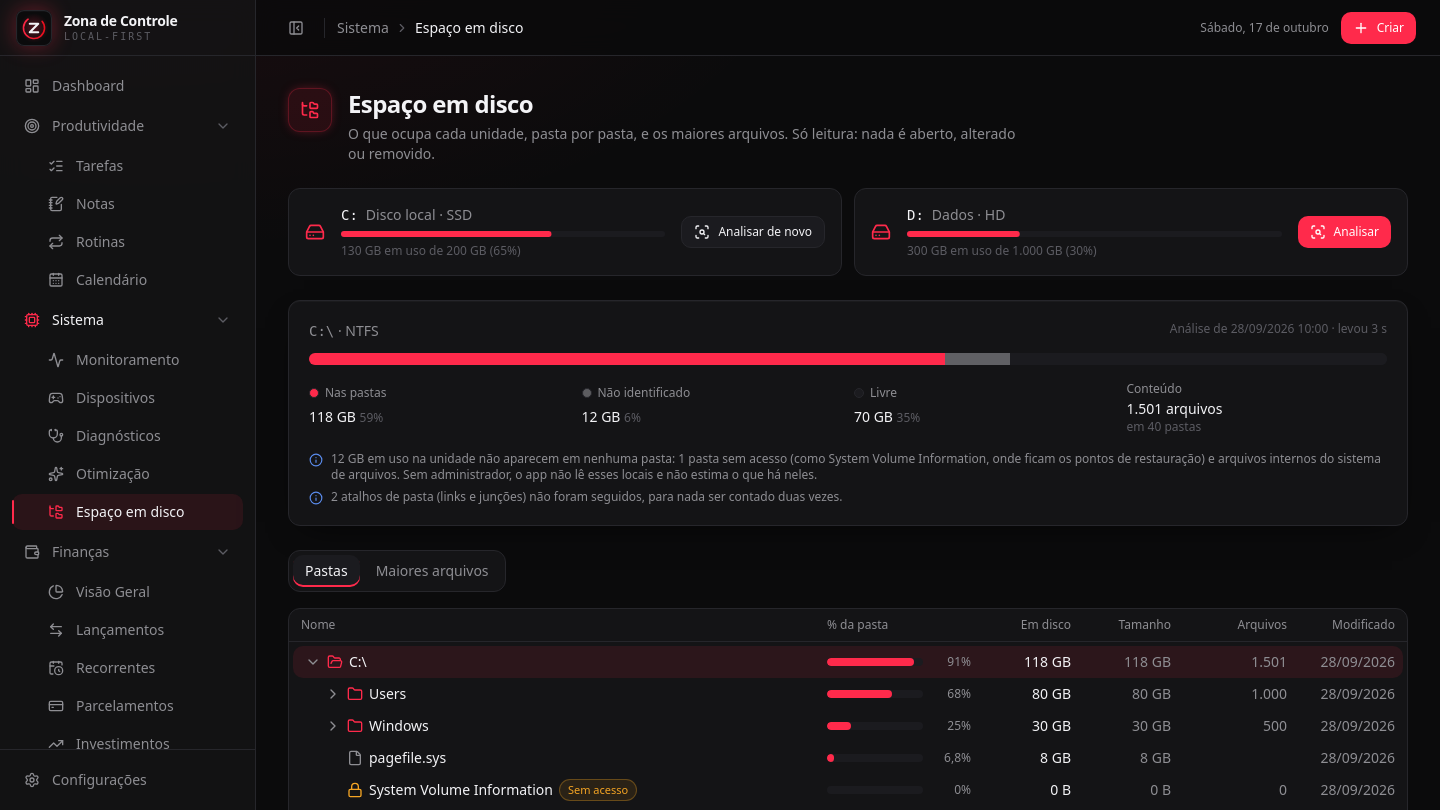
página Espaço em disco › lista os maiores arquivos da unidade
Click the tab "Maiores arquivos" at {"x": 432, "y": 571}, box [364, 555, 501, 587]
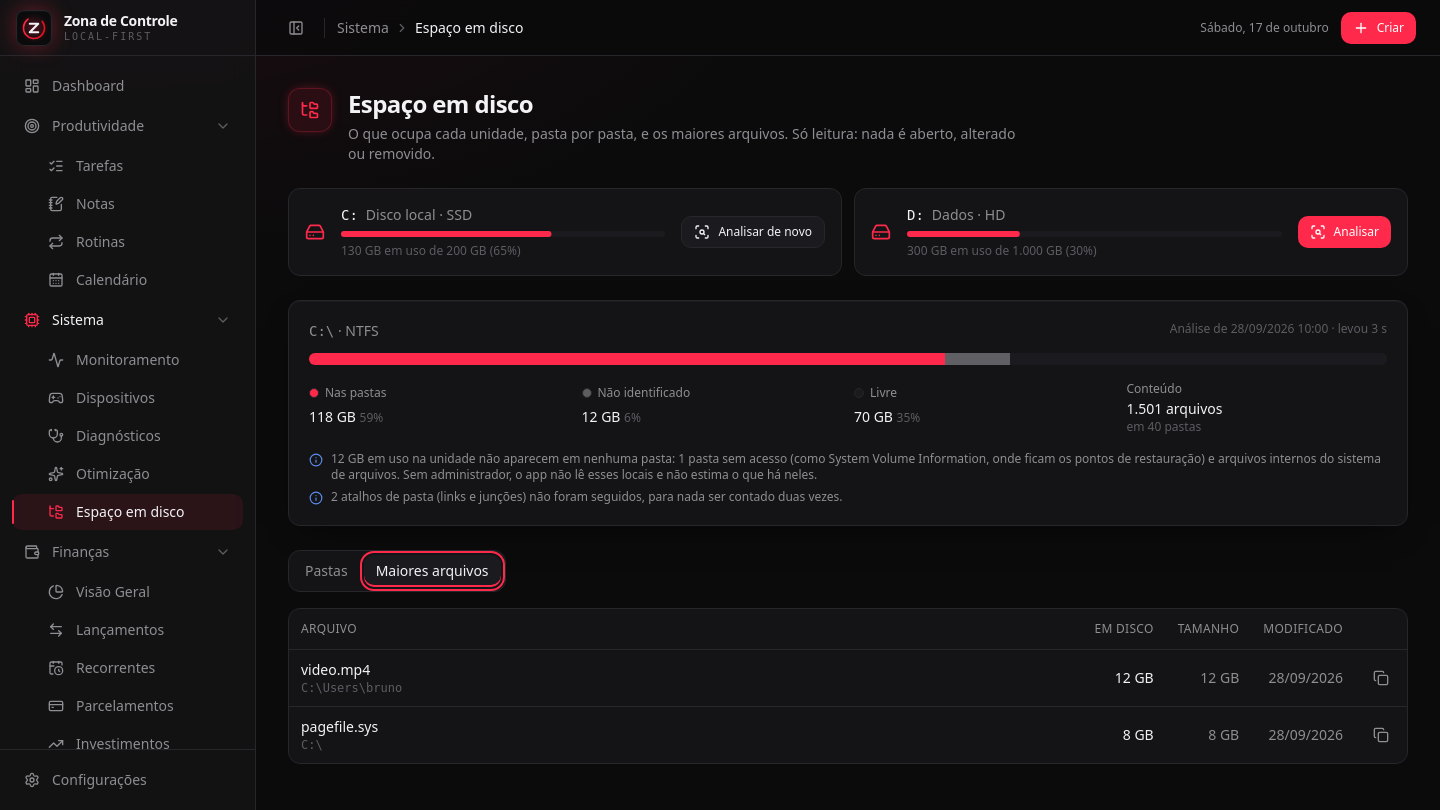
Now the text "video.mp4" is shown, box [301, 660, 370, 678]
Now the text "C:\\Users\\bruno" is shown, box [301, 680, 402, 694]
Now the 1st cell "12 GB" is shown, box [1082, 649, 1166, 706]
